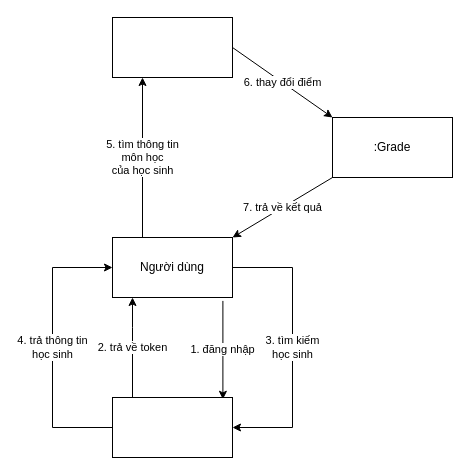
This 470x475 diagram has some shape labels left out. Each missing label, with the box of its shape:
:Person: (112, 396, 232, 458)
:Subject: (112, 16, 232, 78)
